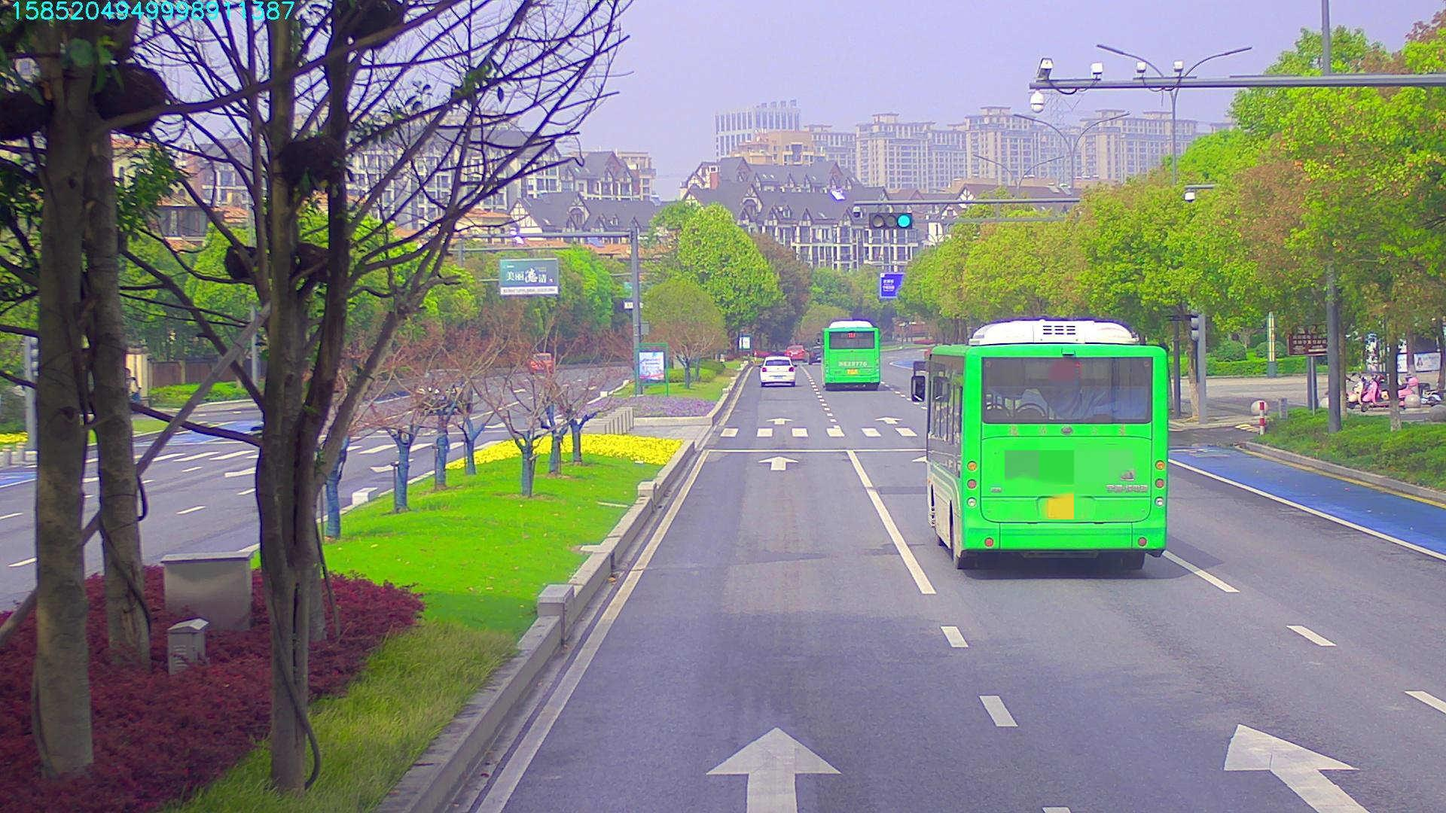green: (864, 211, 912, 228)
